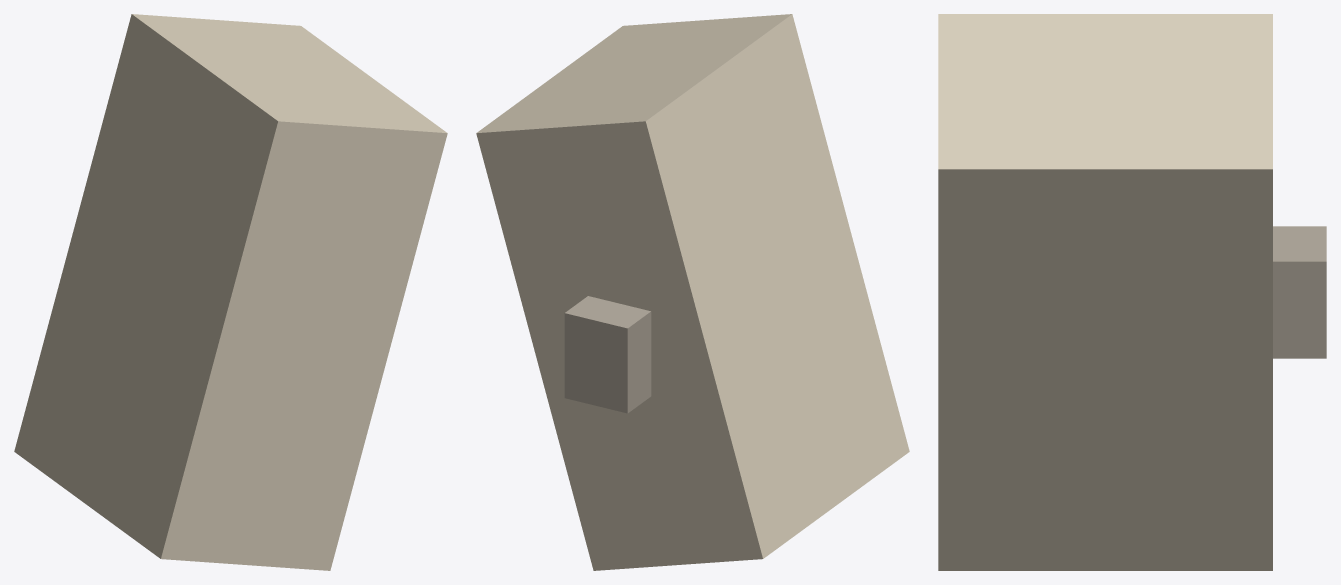
Rendered from aqaba_3502_2953.glb.
The picture shows the model from 3 angles, left to right: view 1: azimuth 30°, elevation 25°; view 2: azimuth 150°, elevation 25°; view 3: azimuth 270°, elevation 25°; orthographic projection. The views are drawn at different scales.
Parts seen in each view (by area): view 1: Building_; view 2: Building_, Roof access hut; view 3: Building_, Roof access hut.
Part boxes in pixels (x1,y1,x2,y2): Building_: (14, 14, 447, 570); Building_: (476, 14, 909, 570); Roof access hut: (564, 296, 651, 413); Building_: (938, 14, 1272, 570); Roof access hut: (1273, 226, 1326, 358).
Size of the model in its own units: 8.47 by 13.05 by 8.7.
